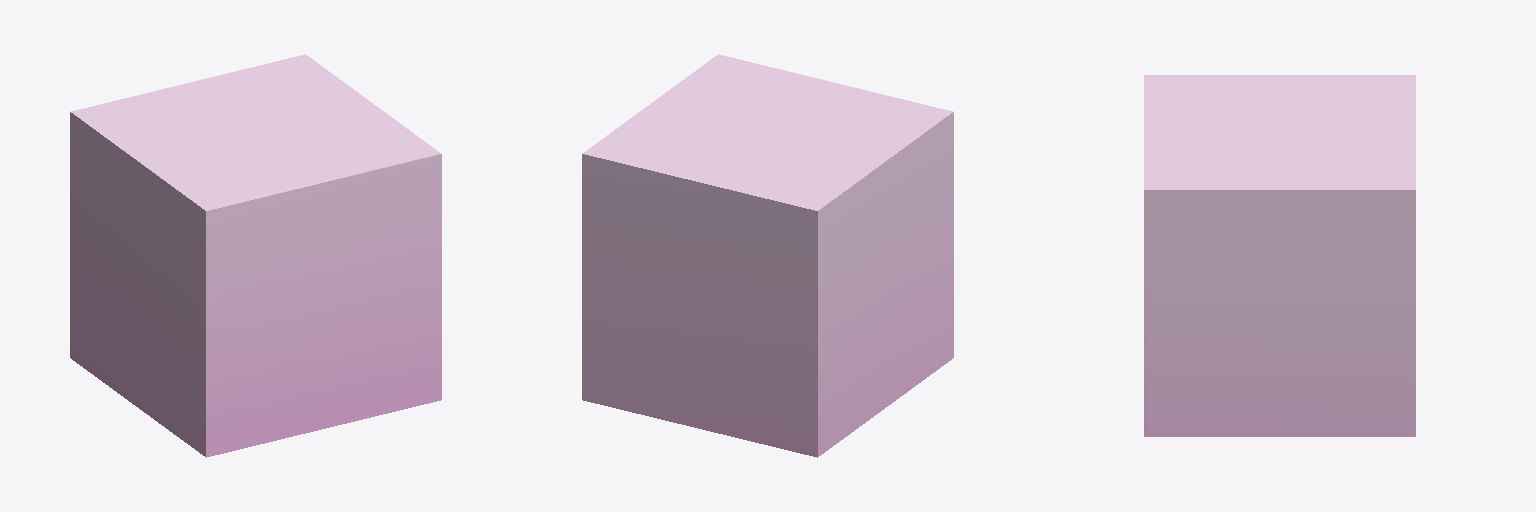
The picture shows the model from 3 angles: view 1: azimuth 30°, elevation 25°; view 2: azimuth 150°, elevation 25°; view 3: azimuth 270°, elevation 25°; orthographic projection.
Parts seen in each view (by area): view 1: Cube; view 2: Cube; view 3: Cube.
Boxes of the visible parts, x1=… form: Cube: x1=70, y1=54, x2=441, y2=457; Cube: x1=582, y1=54, x2=953, y2=457; Cube: x1=1144, y1=75, x2=1415, y2=436.
Bounding box in the file's own units: 2 × 2 × 2.
Materials: 1 (1 with a texture image).